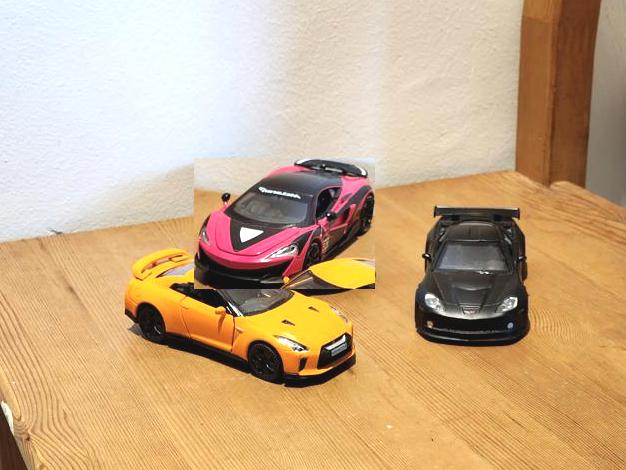toy-car: (123, 248, 357, 385), (194, 158, 375, 289), (415, 205, 529, 347)
